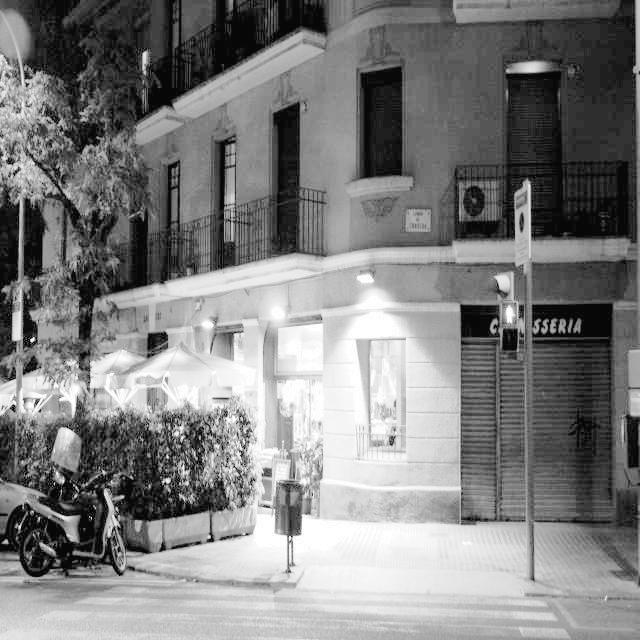Motorcycle: (12, 471, 129, 574)
